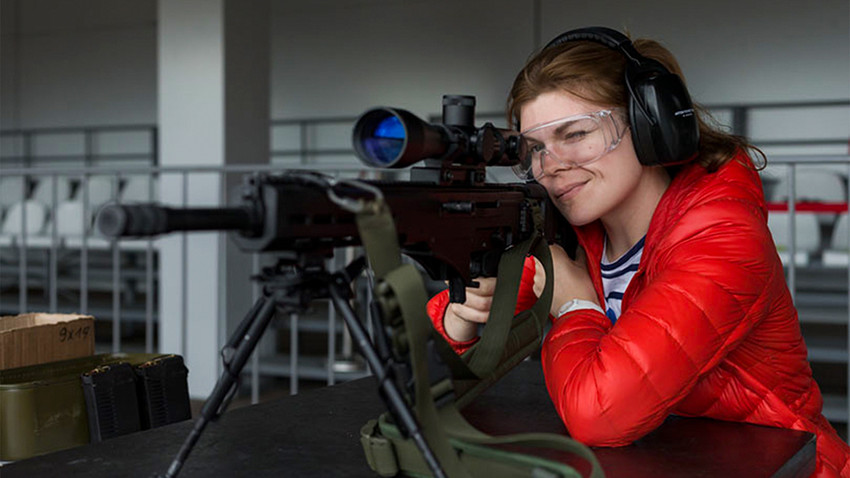Arma Real: (99, 93, 567, 478)
